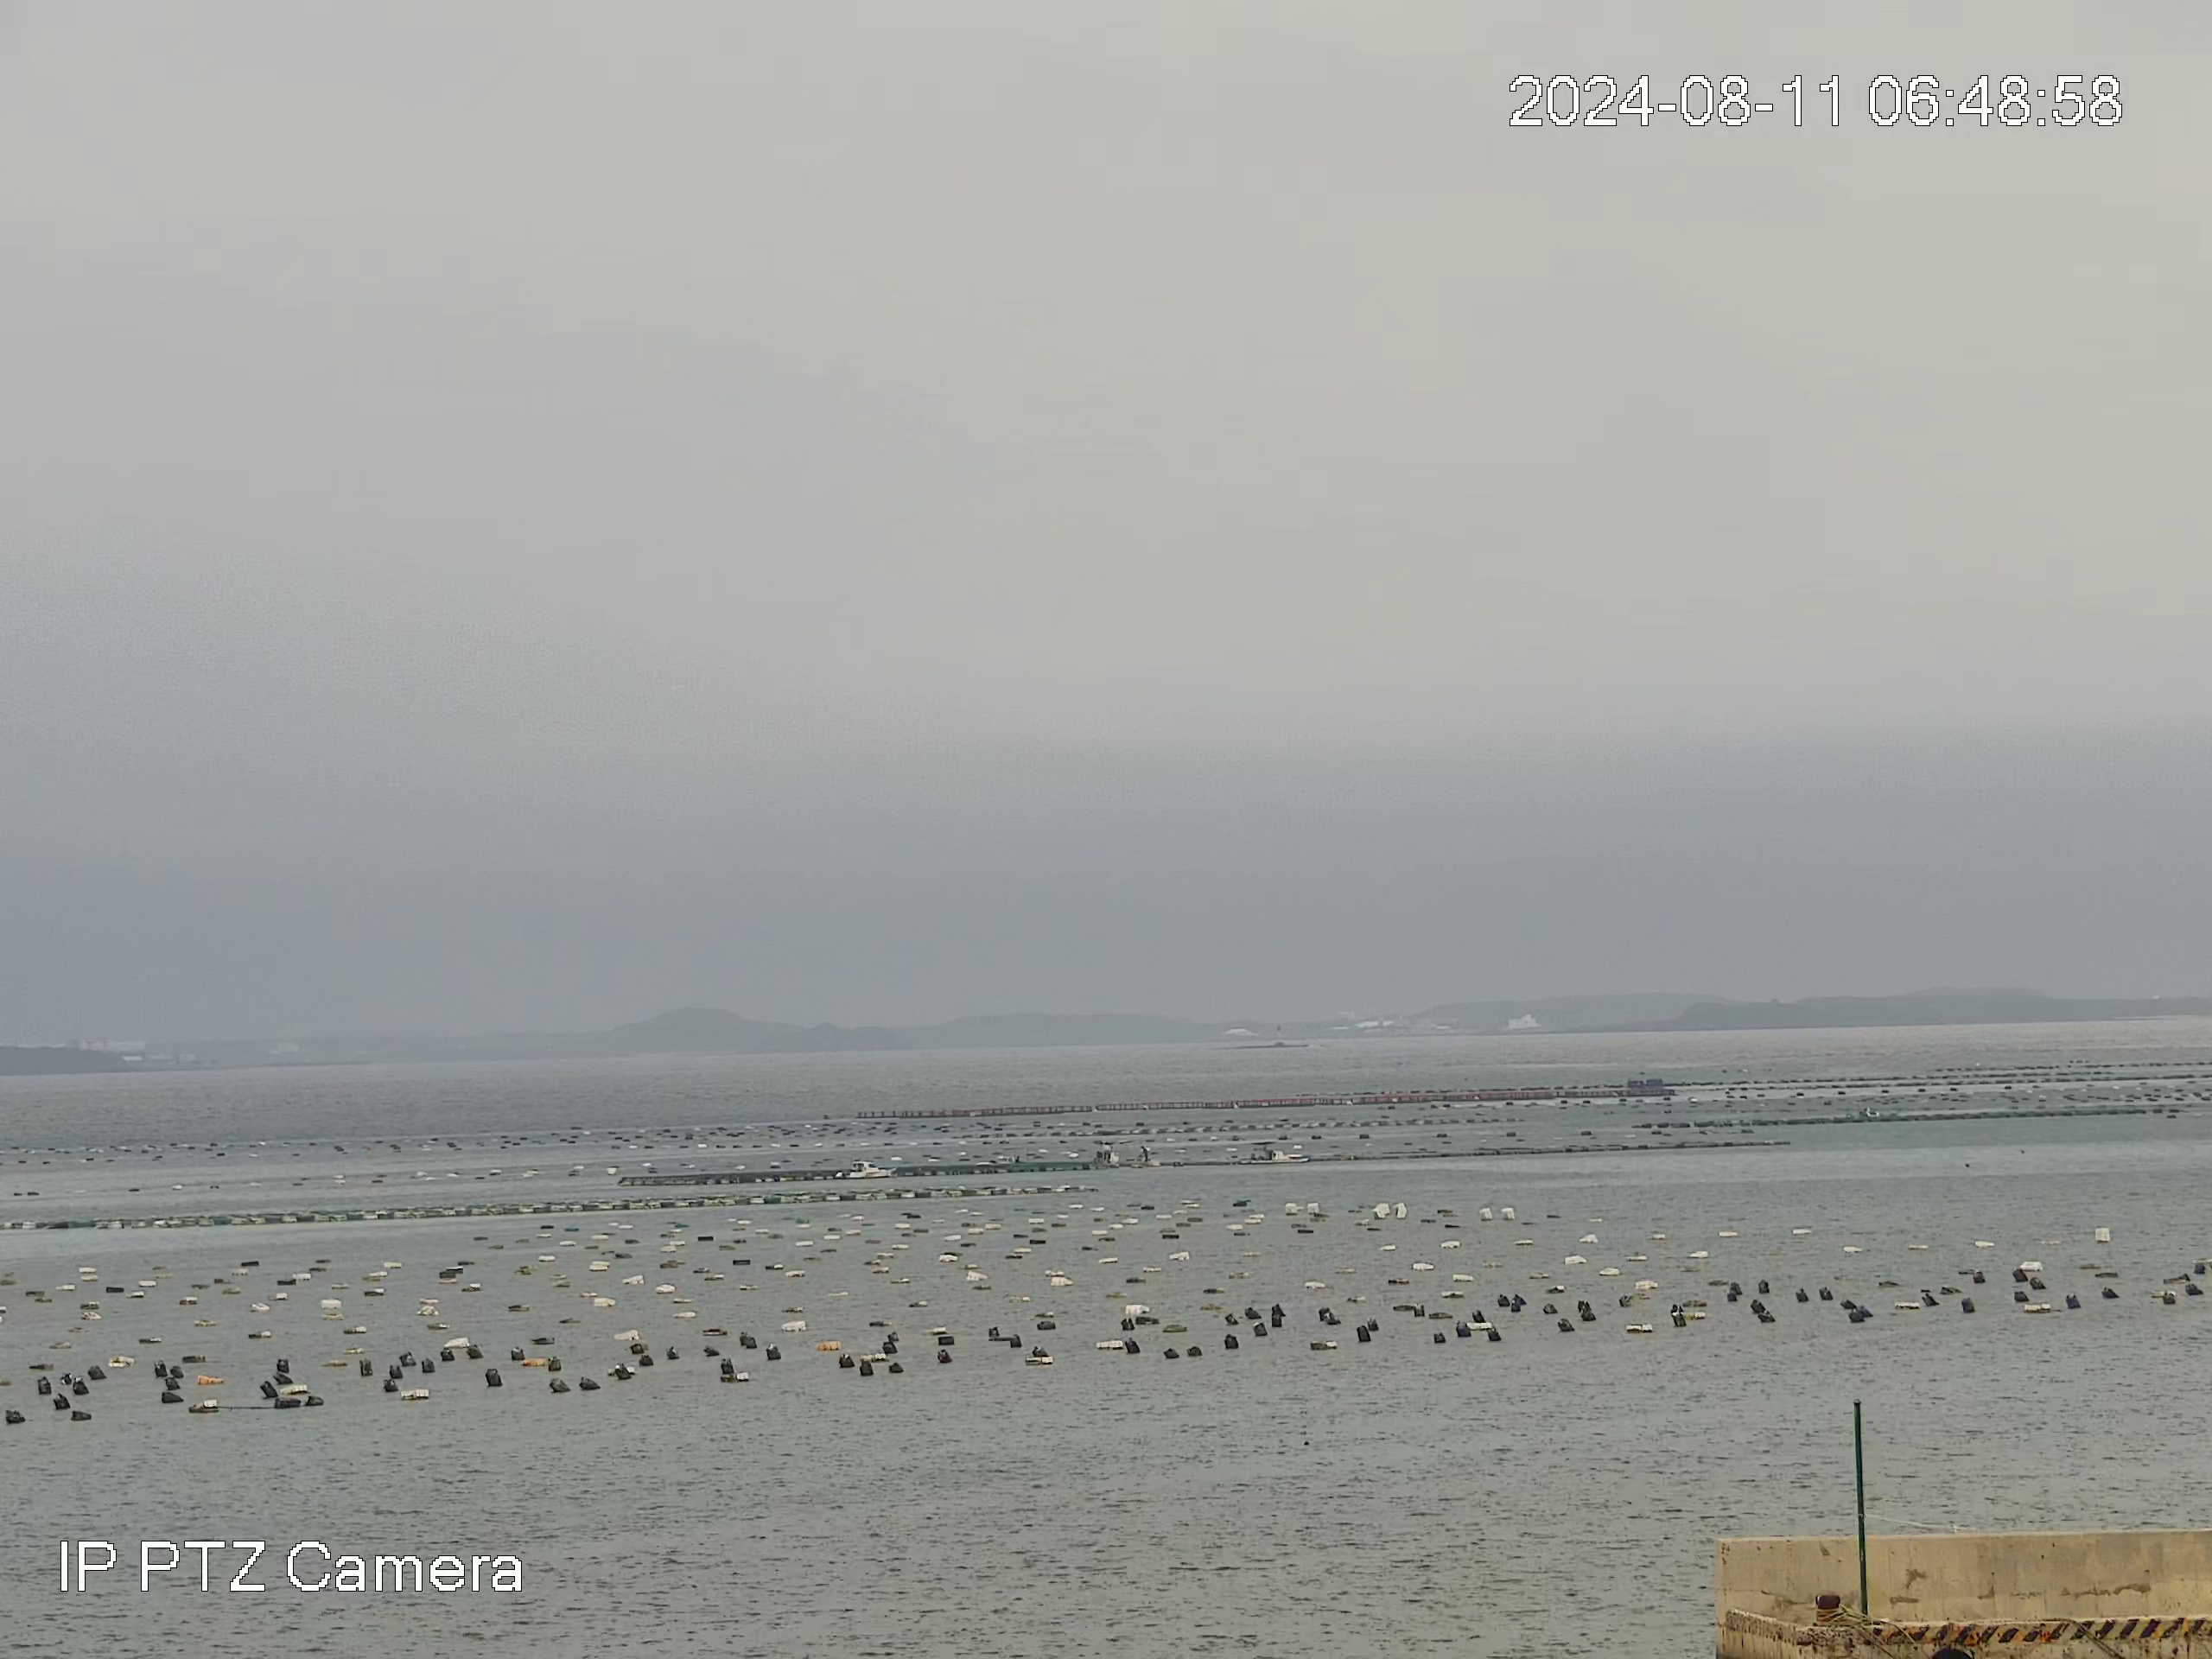boat: (833, 1159, 894, 1180), (1238, 1148, 1291, 1166)
